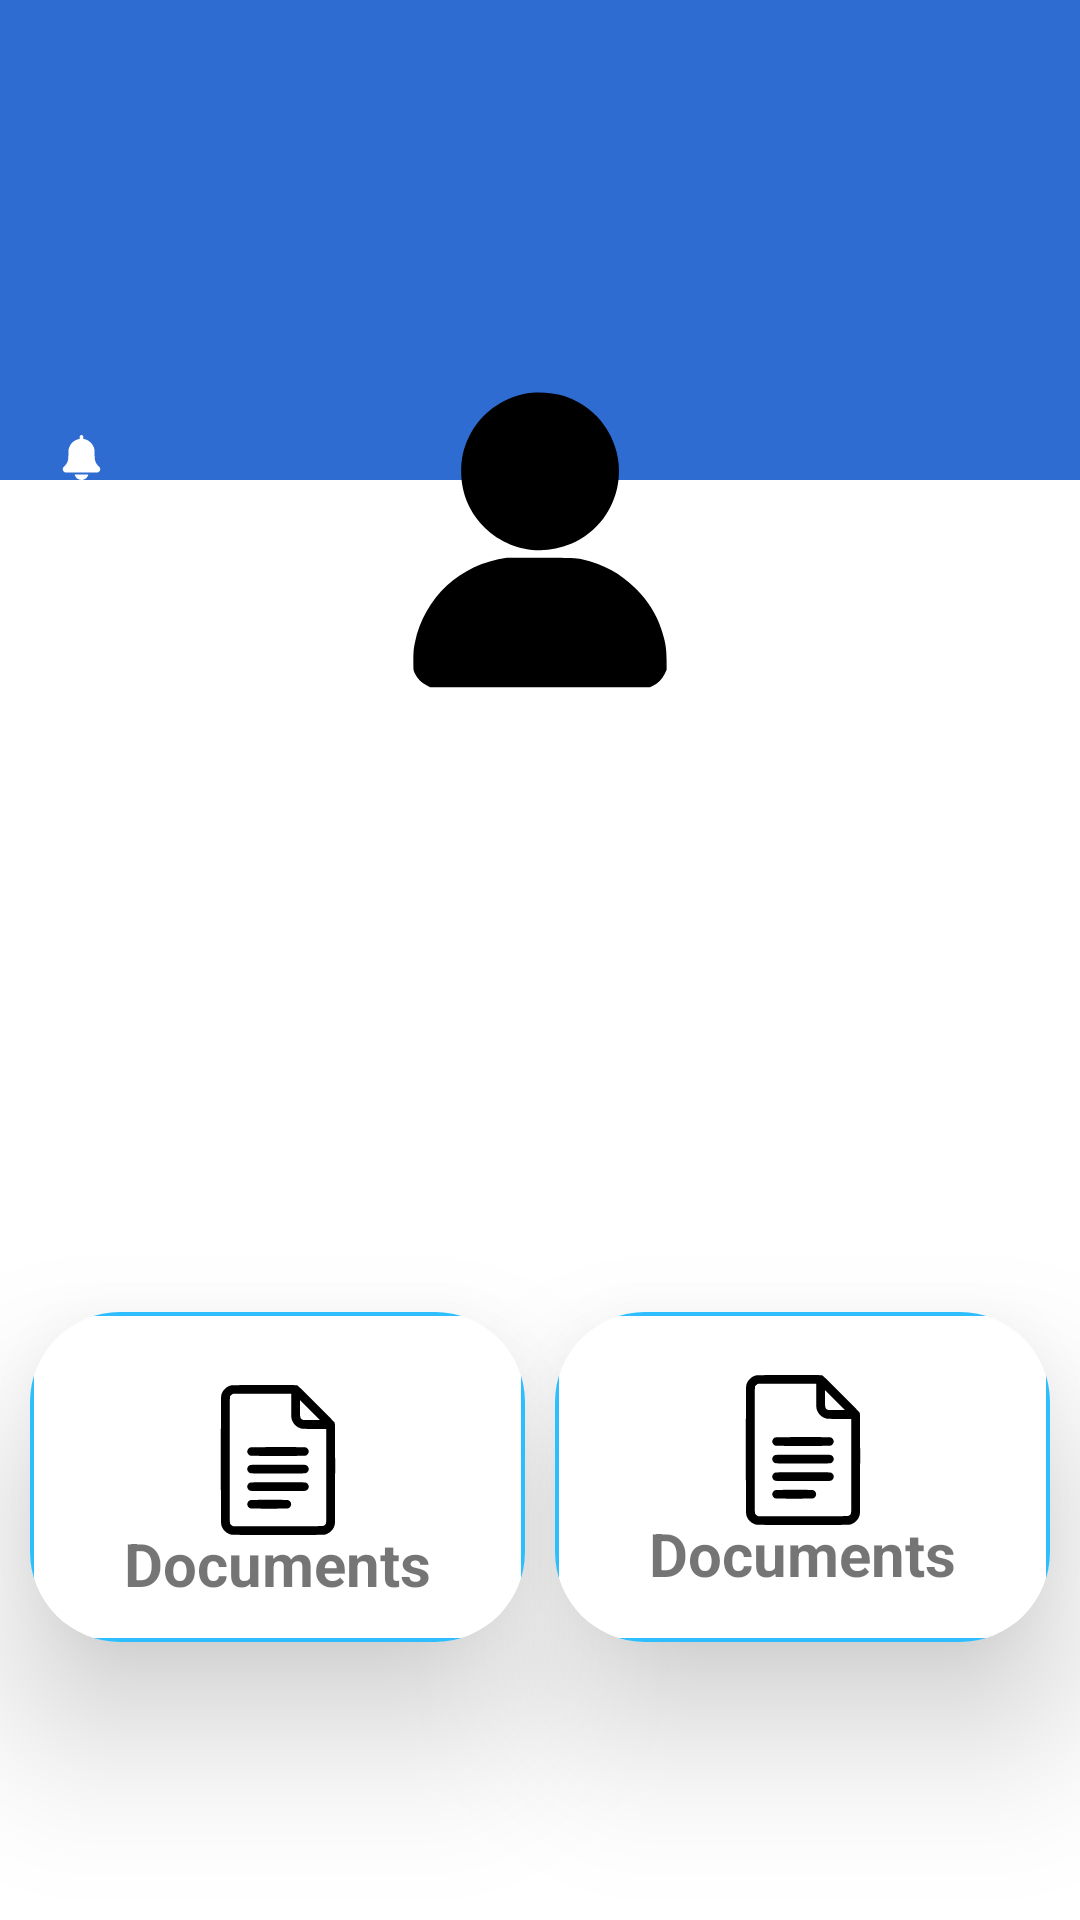

Icon click points for this 1080x1920 phone screenshot, format point (x, y):
bell: point (81, 454)
user: point (540, 540)
